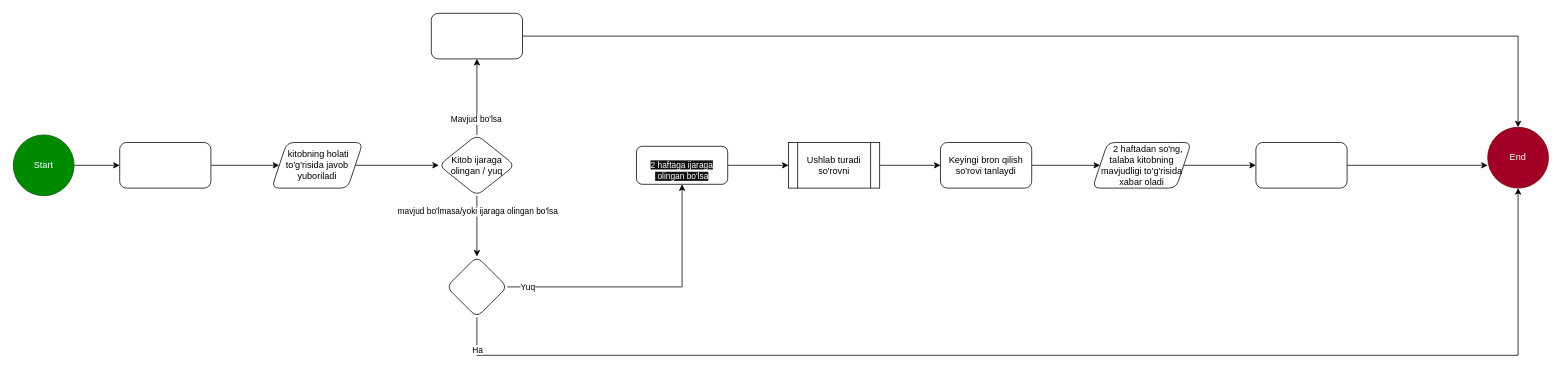
The diagram is 1562 pixels wide and 375 high, and some of its shapes have lost their labels. Each missing label, with the centre of its shape:
"Kitob olish imkonyatiga ega bo'ladi" belongs at pixel 1301 165.
"Kitob olish uchun so'rov yuborish" belongs at pixel 165 165.
"So'rovni bekor qilasizmi" belongs at pixel 476 286.
"talaba uni olish uchun buyurtma beradi" belongs at pixel 476 36.
